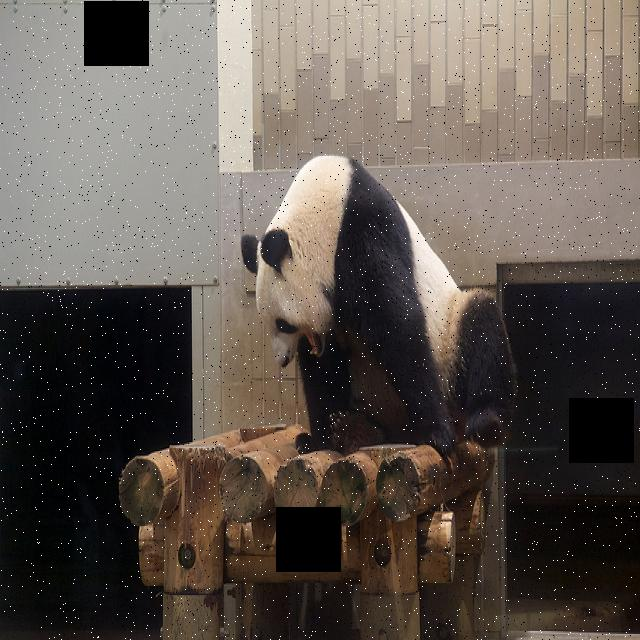Bear: (245, 133, 523, 448)
